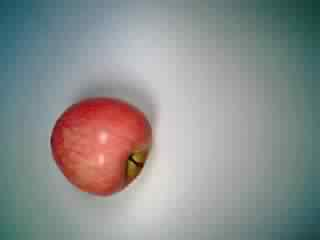apple: (47, 97, 153, 201)
